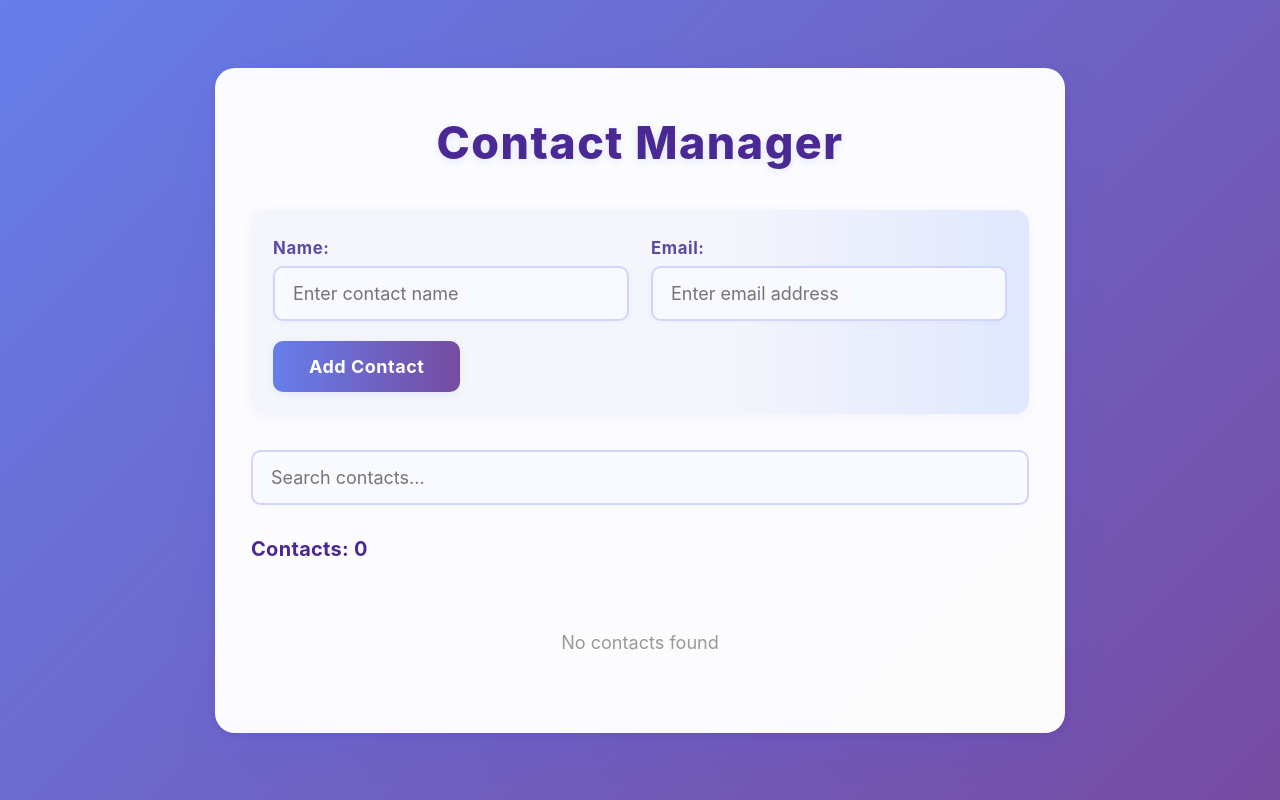
Scenario: Contact Manager App - Complete Tests › Form Validation › shows error for empty fields
// Try to submit form without filling fields
Click the button "Add Contact".
click(367, 366)  # box [273,341,460,392]
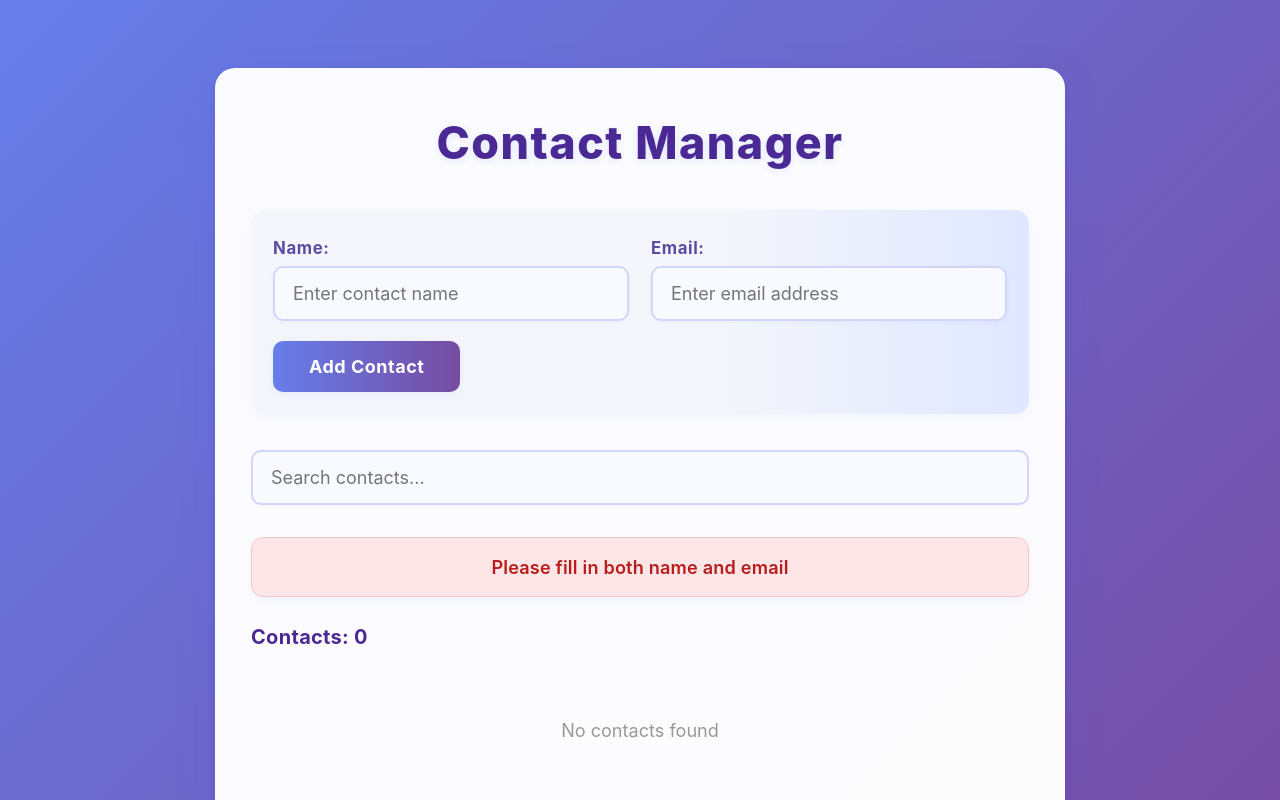
Now the text "Please fill in both name and email" is shown, box [251,537,1029,597]
